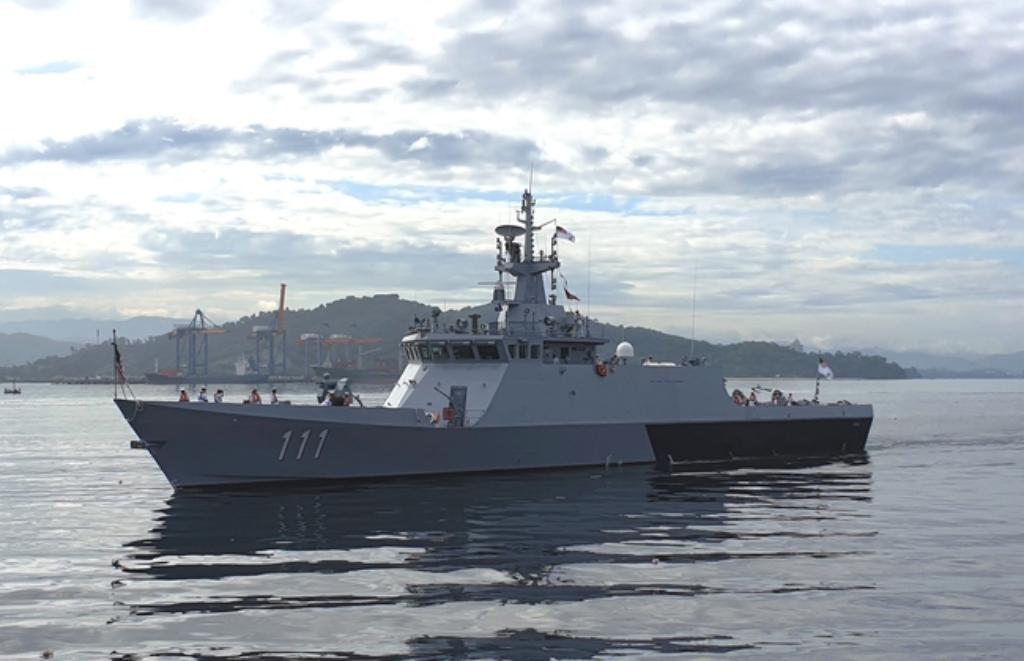Warship: (98, 168, 876, 506)
